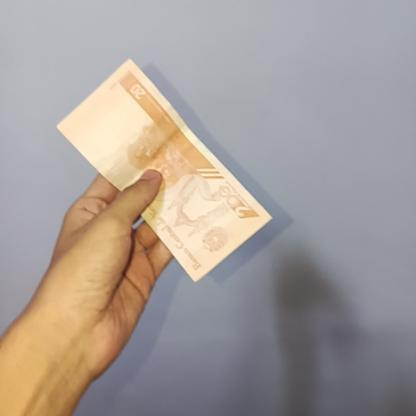twenty-back-vef: (55, 58, 271, 282)
